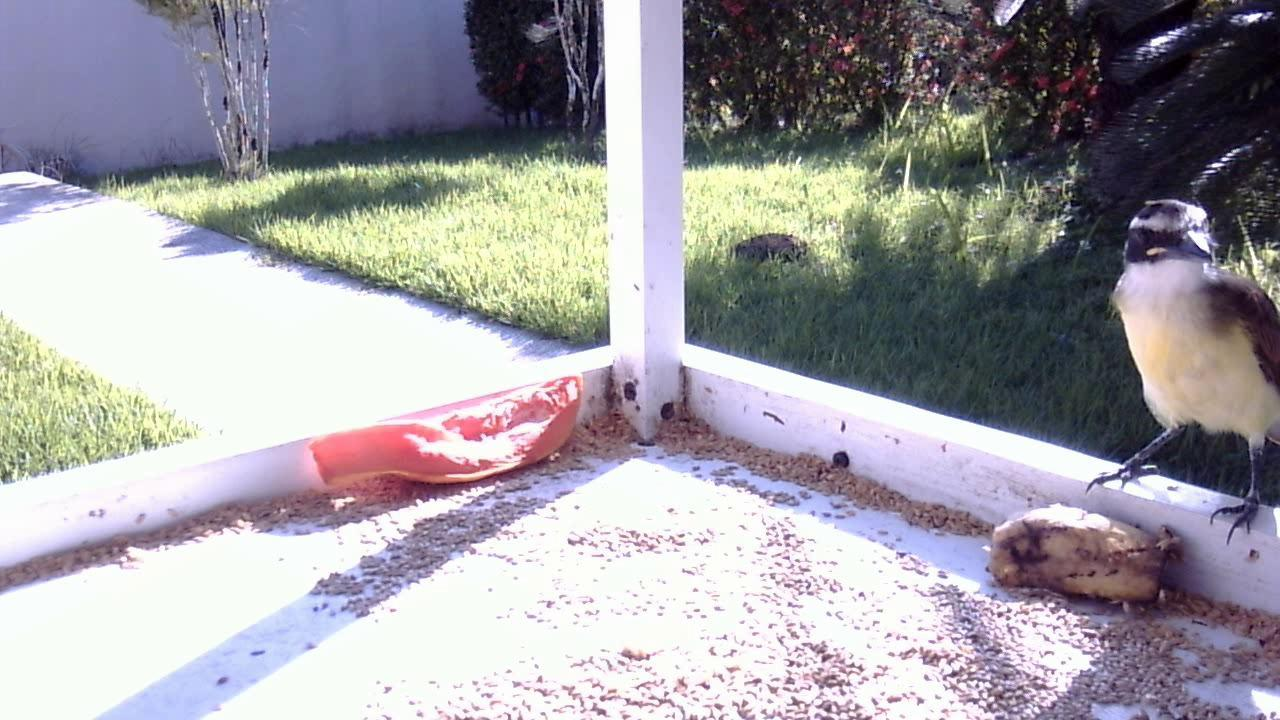bem_te_vi: (1075, 192, 1277, 558)
